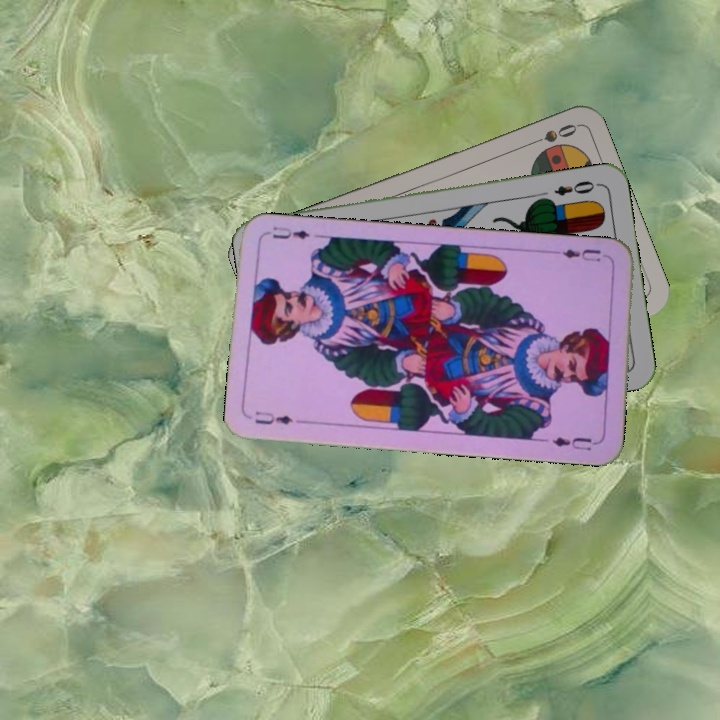EO: (550, 176, 602, 198)
EU: (250, 407, 308, 428), (551, 245, 604, 265)
SO: (522, 120, 580, 149)
